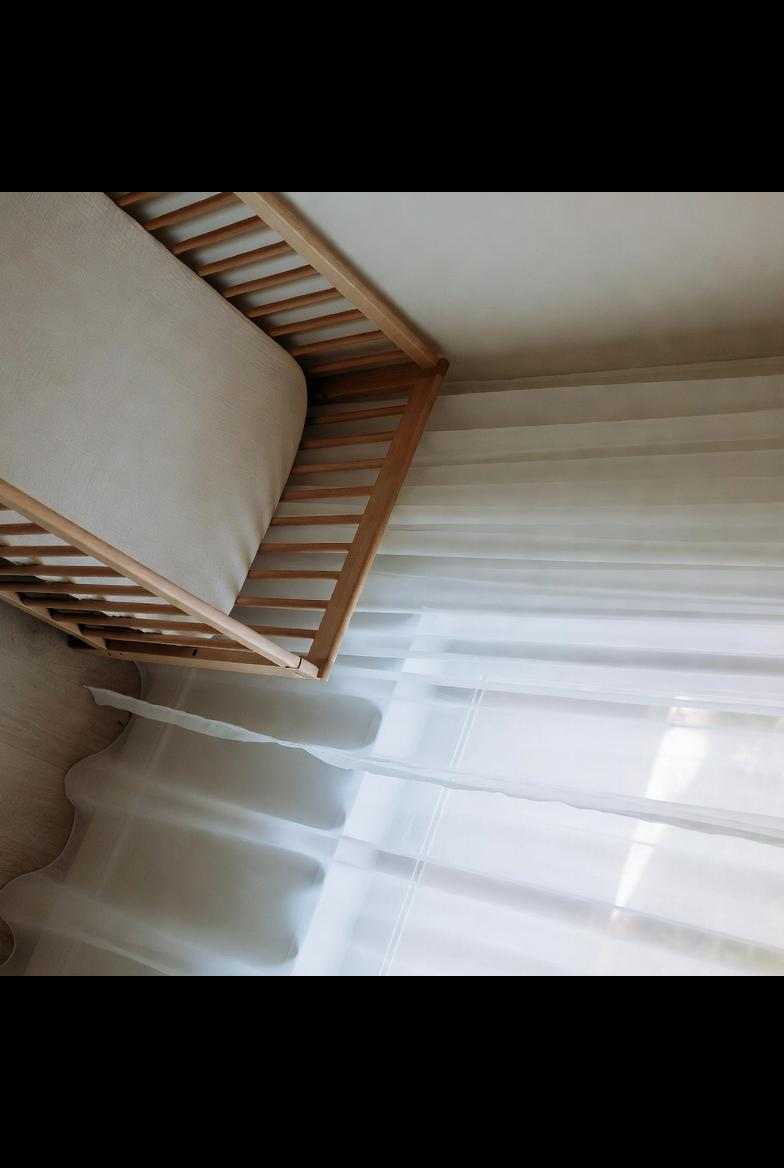crib: (0, 192, 469, 697)
